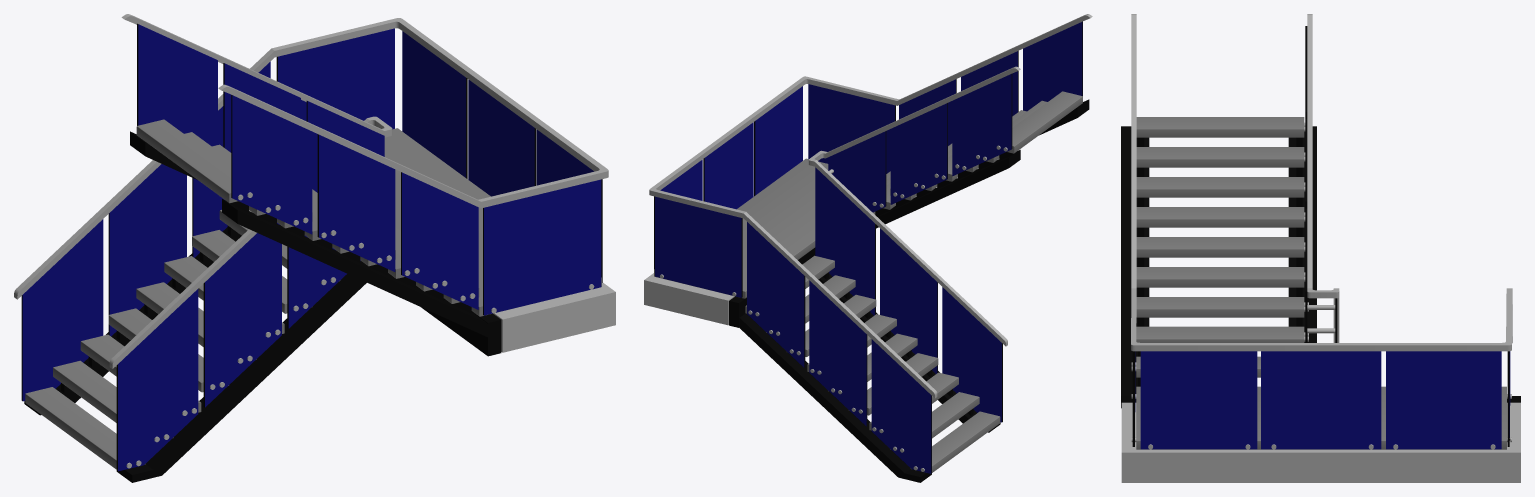
3 views of the same model, side by side, from view 1: azimuth 30°, elevation 25°; view 2: azimuth 150°, elevation 25°; view 3: azimuth 270°, elevation 25° (orthographic). The views are drawn at different scales.
Parts seen in each view (by area): view 1: stairswoodglass; view 2: stairswoodglass; view 3: stairswoodglass.
Boxes of the visible parts, left/top/right/bottom form: stairswoodglass: left=14, top=14, right=615, bottom=482; stairswoodglass: left=644, top=14, right=1092, bottom=482; stairswoodglass: left=1121, top=14, right=1520, bottom=482.
Bounding box in the file's own units: 420 × 492 × 411.
